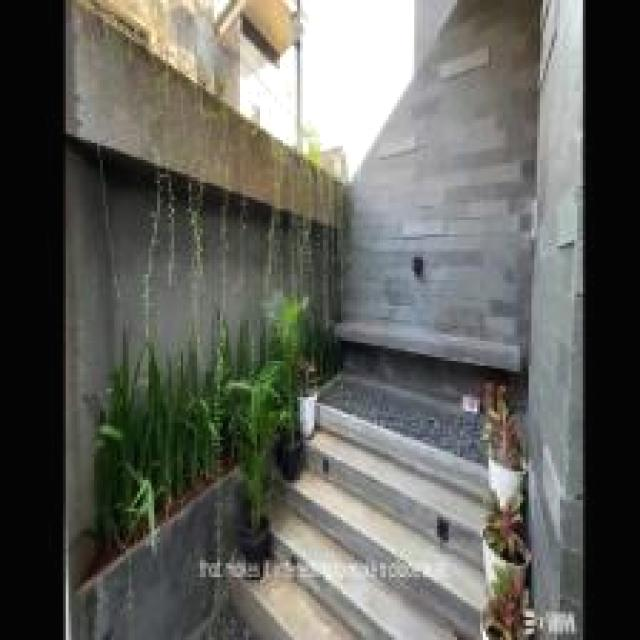upstair: (320, 409, 475, 640)
